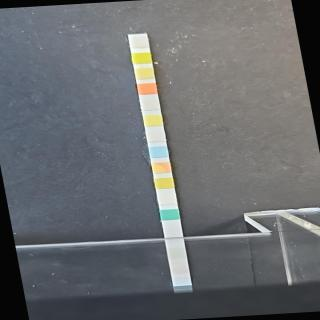mark: (152, 162, 172, 174), (144, 114, 163, 126), (135, 67, 154, 79), (138, 84, 158, 95), (160, 208, 178, 220), (150, 146, 168, 158), (147, 130, 165, 142), (141, 99, 159, 111), (133, 52, 151, 64), (130, 36, 148, 48), (158, 193, 176, 204), (156, 178, 174, 189)
